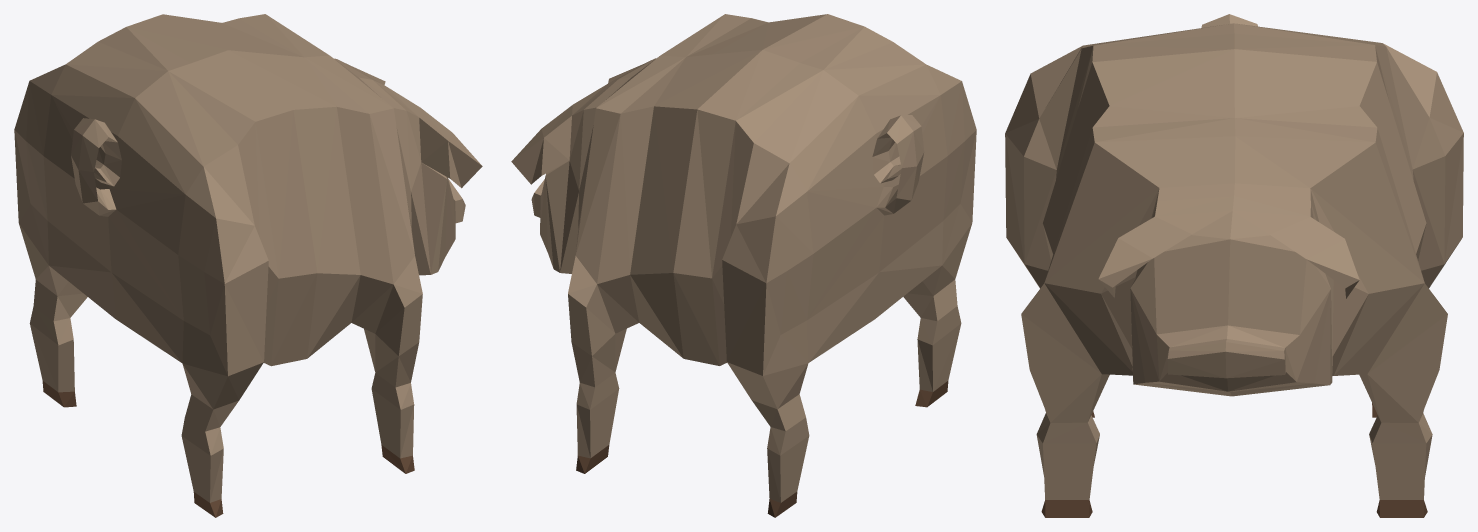
The model's file is pig.glb.
3 renders of one model, left to right at view 1: azimuth 30°, elevation 25°; view 2: azimuth 150°, elevation 25°; view 3: azimuth 270°, elevation 25°, orthographic. The views are drawn at different scales.
Size of the model in its own units: 1 by 1 by 1.
